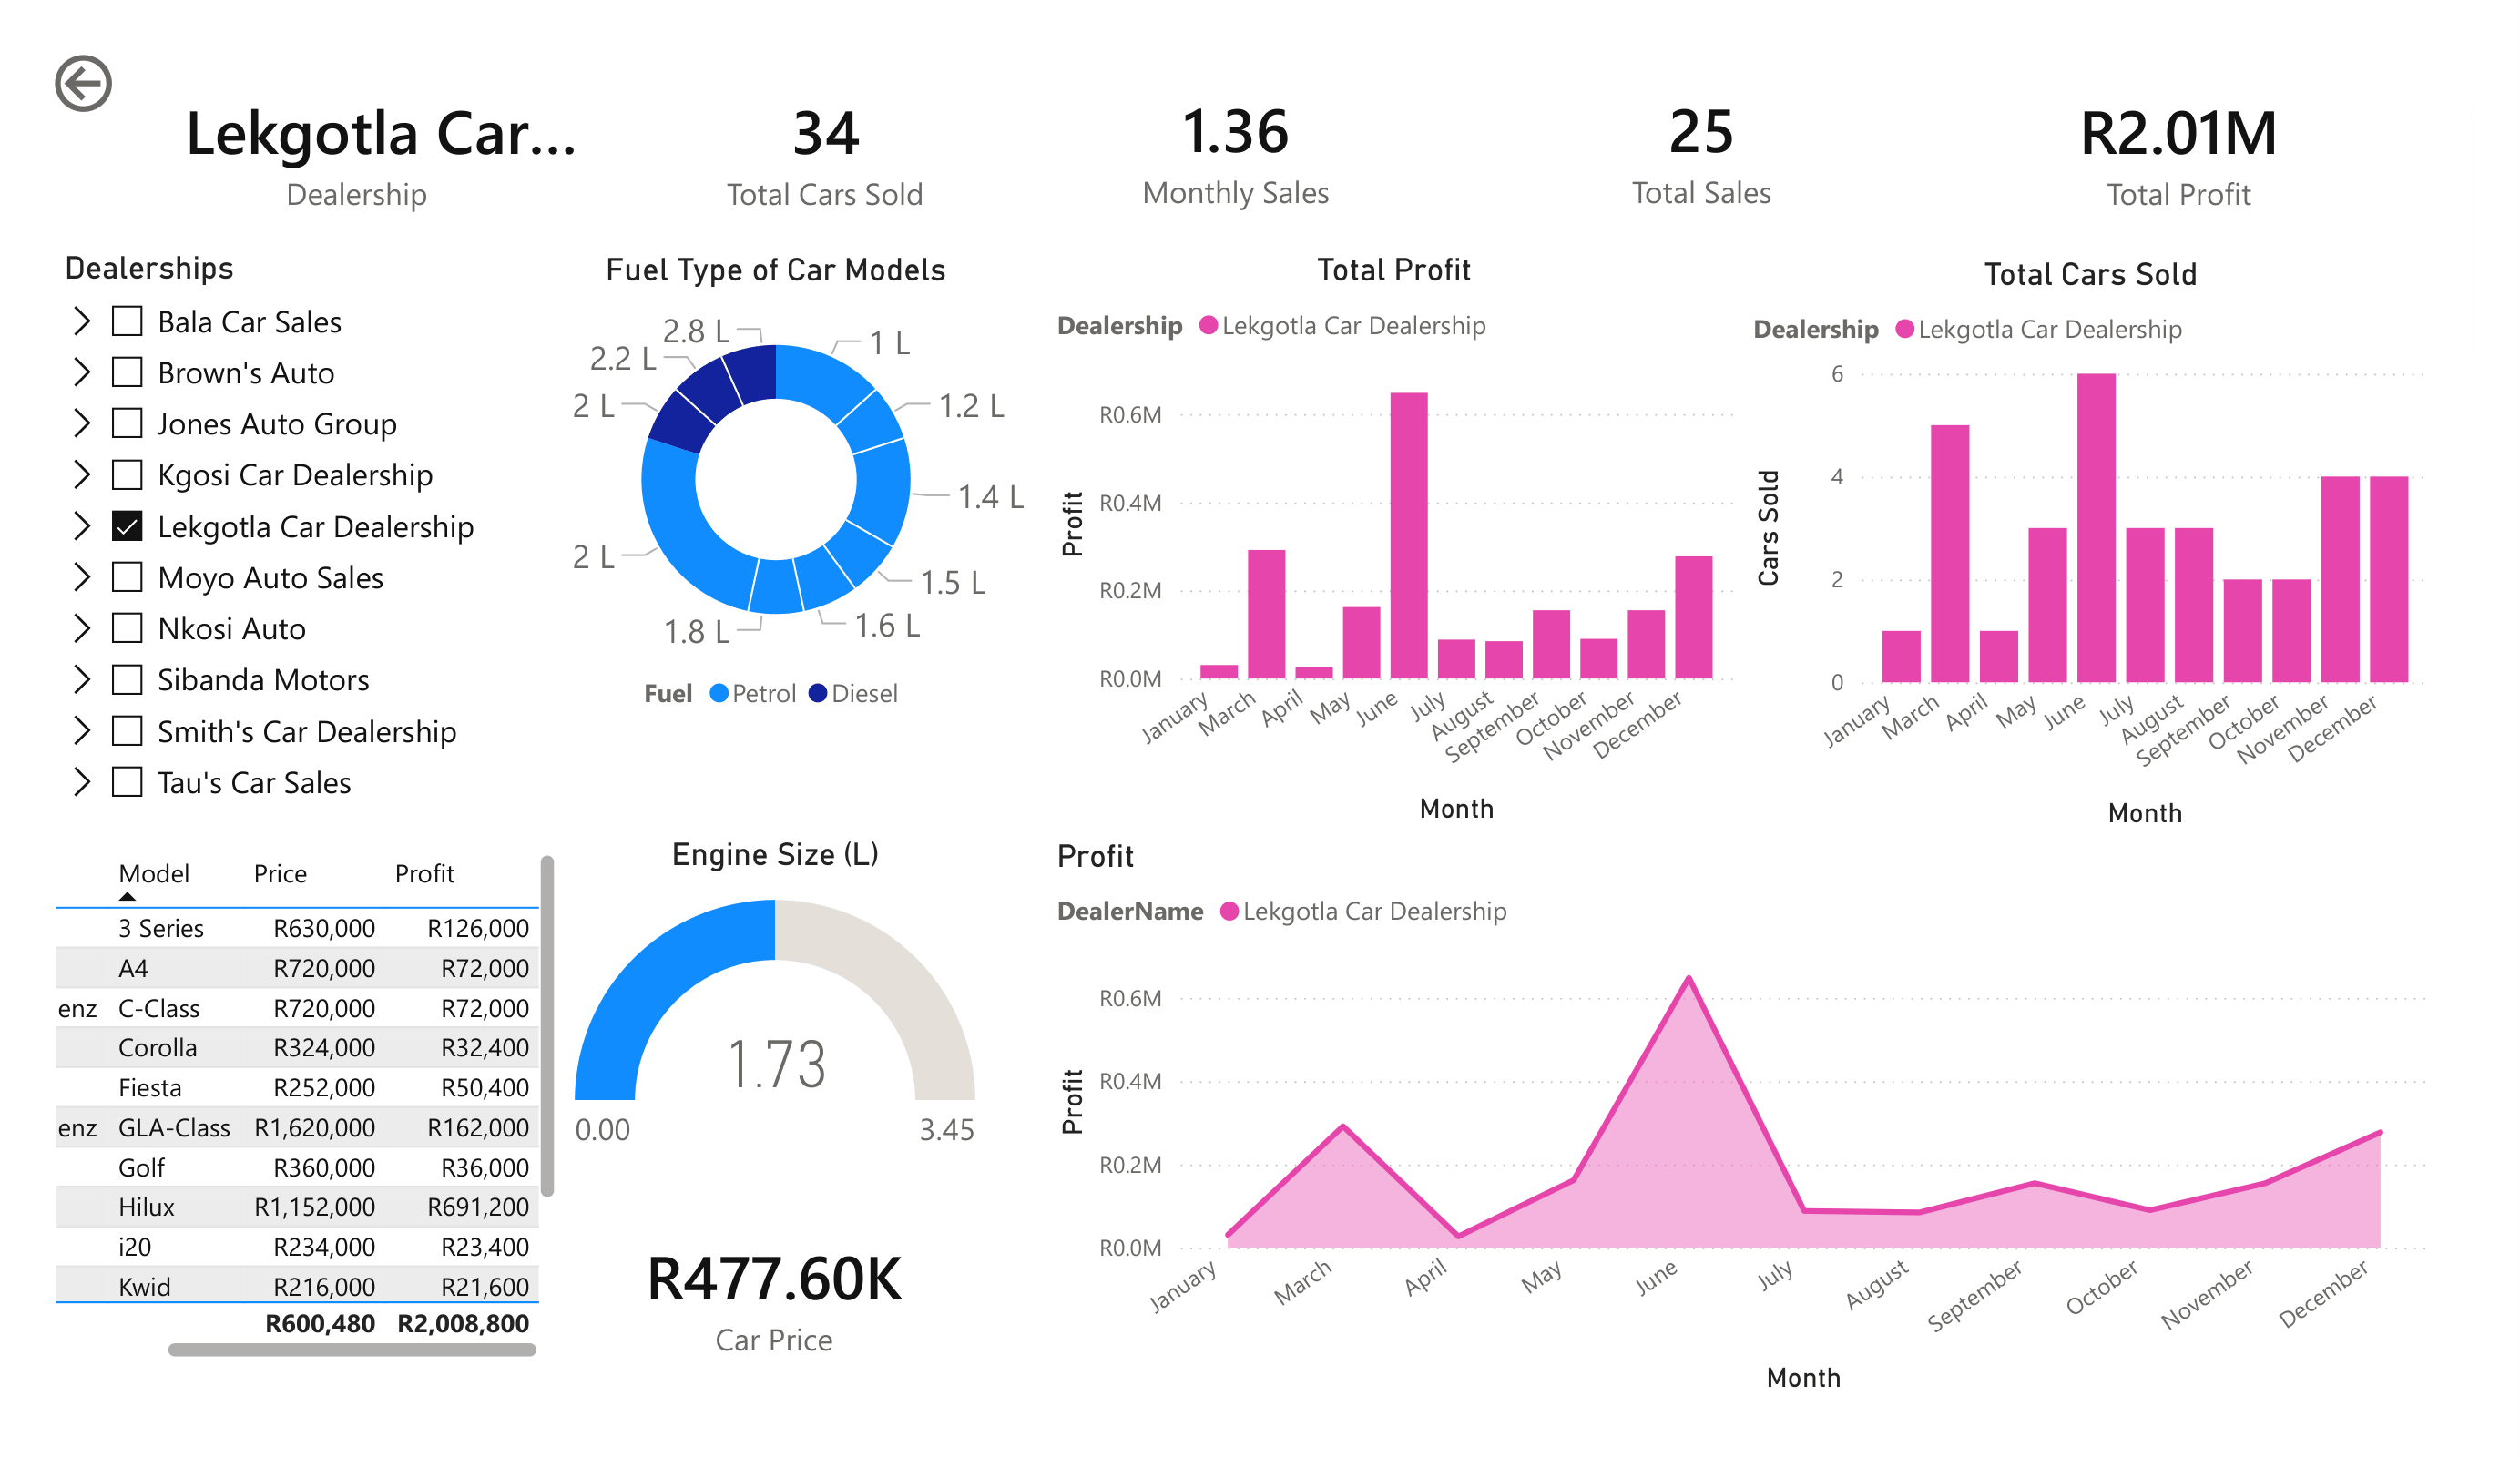

The page's visual inventory and layout, read from the dashboard file:
{"tool":"powerbi","page":{"name":"Page 1","canvas":[1280,720],"ordinal":0},"visuals":[{"type":"cardVisual","fields":{"Data":["CountNonNull(Sales.Quantity)"]},"box":[801.4,0,144.1,109.8],"z":0},{"type":"cardVisual","fields":{"Data":["Sum(Sales.Quantity)"]},"box":[327.7,0,166.3,110.1],"z":1000},{"type":"cardVisual","fields":{"Data":["Sum(Sales.Total Profit (ZAR))"]},"box":[1012.7,0,212.7,109.8],"z":2000},{"type":"tableEx","fields":{"Values":["Models.Brand","Models.Model","Models.Price (ZAR)"]},"box":[9.6,362.3,262.1,355.4],"z":3000},{"type":"cardVisual","fields":{"Data":["Avg(Sales.Quantity)"]},"box":[548.9,0,157.8,109.8],"z":4000},{"type":"cardVisual","fields":{"Data":["Min(Dealers.DealerName)"]},"box":[23.2,0,265.4,110.1],"z":5000},{"type":"donutChart","title":"Fuel Type of Car Models","fields":{"Category":["Models.Fuel"],"Y":["CountNonNull(Models.Fuel)"],"Series":["Models.Engine Sizes (L)"]},"box":[242.1,107.6,286.1,251.9],"z":6000},{"type":"tableEx","fields":{"Values":["Dealers.DealerID","Dealers.DealerName"]},"box":[9.8,99,232.3,249.5],"z":7000},{"type":"gauge","fields":{"Y":["Avg(Models.EngineSize (L))"]},"box":[273.9,414.5,221.3,187.1],"z":8000},{"type":"columnChart","title":"Total Profit","fields":{"Category":["Dealers.DealerName","Sales.Date.Variation.Date Hierarchy.Month","Dealers.City","Models.Brand","Models.Model"],"Y":["Sum(Sales.Total Profit (ZAR))"],"Series":["Dealers.DealerName"]},"box":[528.3,107.6,365.6,306.9],"z":9000},{"type":"columnChart","title":"Total Cars Sold","fields":{"Category":["Dealers.DealerName","Dealers.City","Models.Segment","Models.Model"],"Y":["Sum(Sales.Quantity)"],"Series":["Dealers.DealerName"]},"box":[894.7,109.8,366.4,307.4],"z":10000},{"type":"actionButton","box":[0,0,100,40],"z":11000},{"type":"lineChart","title":"Monthly Profit (ZAR)","fields":{"Category":["Sales.Date.Variation.Date Hierarchy.Month","Dealers.Country","Dealers.City"],"Series":["Dealers.DealerName"],"Y":["Avg(Sales.Total Profit (ZAR))"]},"box":[528.3,417.2,731.4,303.3],"z":12000},{"type":"cardVisual","fields":{"Data":["Avg(Models.Price (ZAR))"]},"box":[271.5,584.5,216.4,135.7],"z":13000}]}

Visuals, with their boxes on the page's 1280x720 design canvas (x1, y1, x2, y2). These are canvas units, not pixel positions in the 2520x1457 screenshot, which may show the page scaled, cropped or inside an application window:
cardVisual - CountNonNull(Sales.Quantity): (left=801, top=0, right=946, bottom=110)
cardVisual - Sum(Sales.Quantity): (left=328, top=0, right=494, bottom=110)
cardVisual - Sum(Sales.Total Profit (ZAR)): (left=1013, top=0, right=1225, bottom=110)
tableEx - Models.Brand x Models.Model: (left=10, top=362, right=272, bottom=718)
cardVisual - Avg(Sales.Quantity): (left=549, top=0, right=707, bottom=110)
cardVisual - Min(Dealers.DealerName): (left=23, top=0, right=289, bottom=110)
"Fuel Type of Car Models" donutChart: (left=242, top=108, right=528, bottom=360)
tableEx - Dealers.DealerID x Dealers.DealerName: (left=10, top=99, right=242, bottom=348)
gauge - Avg(Models.EngineSize (L)): (left=274, top=414, right=495, bottom=602)
"Total Profit" columnChart: (left=528, top=108, right=894, bottom=414)
"Total Cars Sold" columnChart: (left=895, top=110, right=1261, bottom=417)
actionButton: (left=0, top=0, right=100, bottom=40)
"Monthly Profit (ZAR)" lineChart: (left=528, top=417, right=1260, bottom=720)
cardVisual - Avg(Models.Price (ZAR)): (left=272, top=584, right=488, bottom=720)
